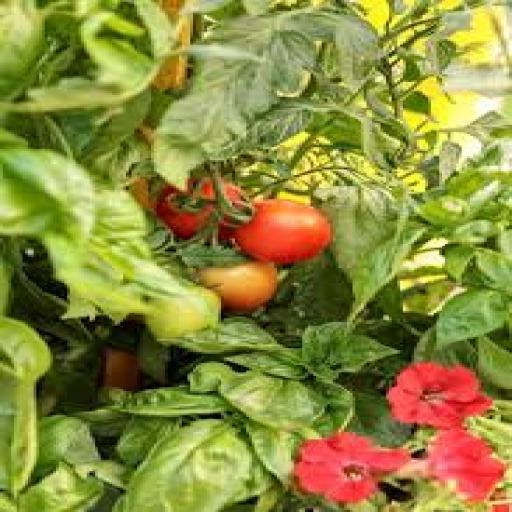tomato: (236, 200, 332, 264), (146, 287, 221, 344), (199, 261, 276, 310), (157, 179, 215, 238), (104, 349, 139, 390), (129, 177, 153, 210)
